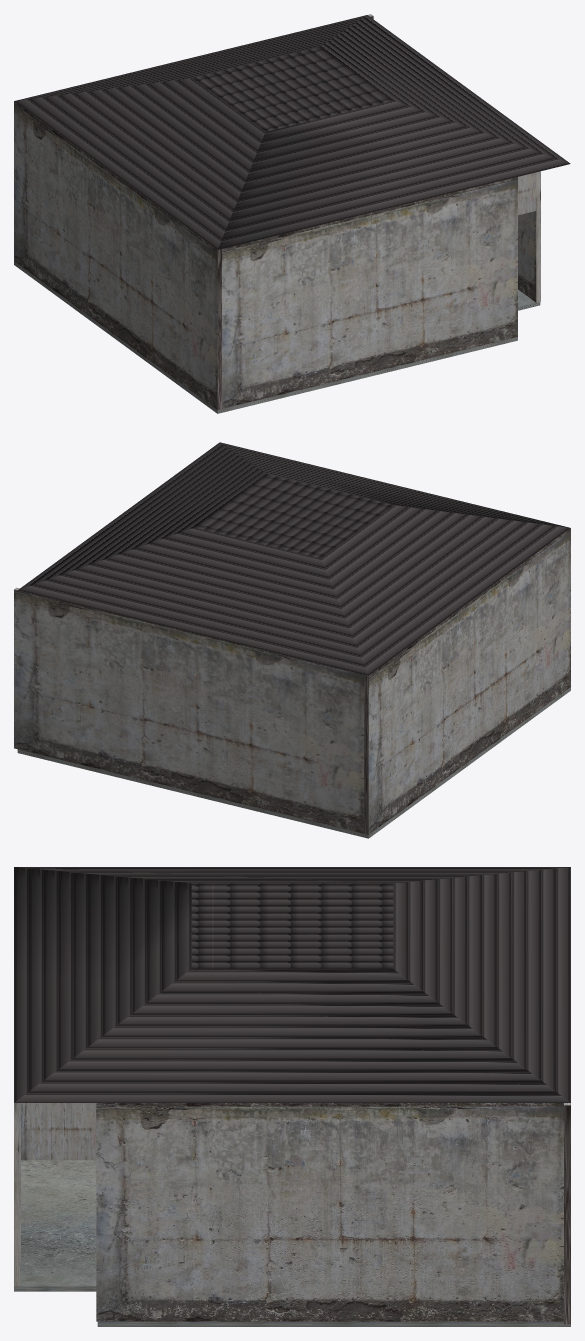
File: Factory.fbx
3 views of the same model, one above another, from view 1: azimuth 30°, elevation 25°; view 2: azimuth 150°, elevation 25°; view 3: azimuth 270°, elevation 25° (orthographic). The views are drawn at different scales.
Parts seen in each view (by area): view 1: Cube.006, Cube.002, Cube, Floor, Cube.003, Cube.005; view 2: Cube.006, Cube.001, Cube, Floor; view 3: Cube.006, Cube.003, Floor, Cube.004, Cube.001, Cube.002.
Boxes of the visible parts, x1=… form: Cube.006: x1=14, y1=15, x2=570, y2=249; Cube.002: x1=222, y1=177, x2=517, y2=408; Cube: x1=14, y1=101, x2=221, y2=409; Floor: x1=14, y1=261, x2=540, y2=413; Cube.003: x1=518, y1=171, x2=540, y2=302; Cube.005: x1=518, y1=172, x2=536, y2=215; Cube.006: x1=18, y1=442, x2=570, y2=675; Cube.001: x1=14, y1=587, x2=364, y2=833; Cube: x1=364, y1=528, x2=570, y2=834; Floor: x1=17, y1=687, x2=570, y2=838; Cube.006: x1=14, y1=867, x2=570, y2=1102; Cube.003: x1=96, y1=1103, x2=563, y2=1321; Floor: x1=14, y1=1160, x2=570, y2=1326; Cube.004: x1=21, y1=1103, x2=96, y2=1160; Cube.001: x1=564, y1=1103, x2=570, y2=1324; Cube.002: x1=14, y1=1103, x2=20, y2=1286.
Size of the model in its own units: 1709 by 946 by 1688.
Materials: 8 (8 with a texture image).
